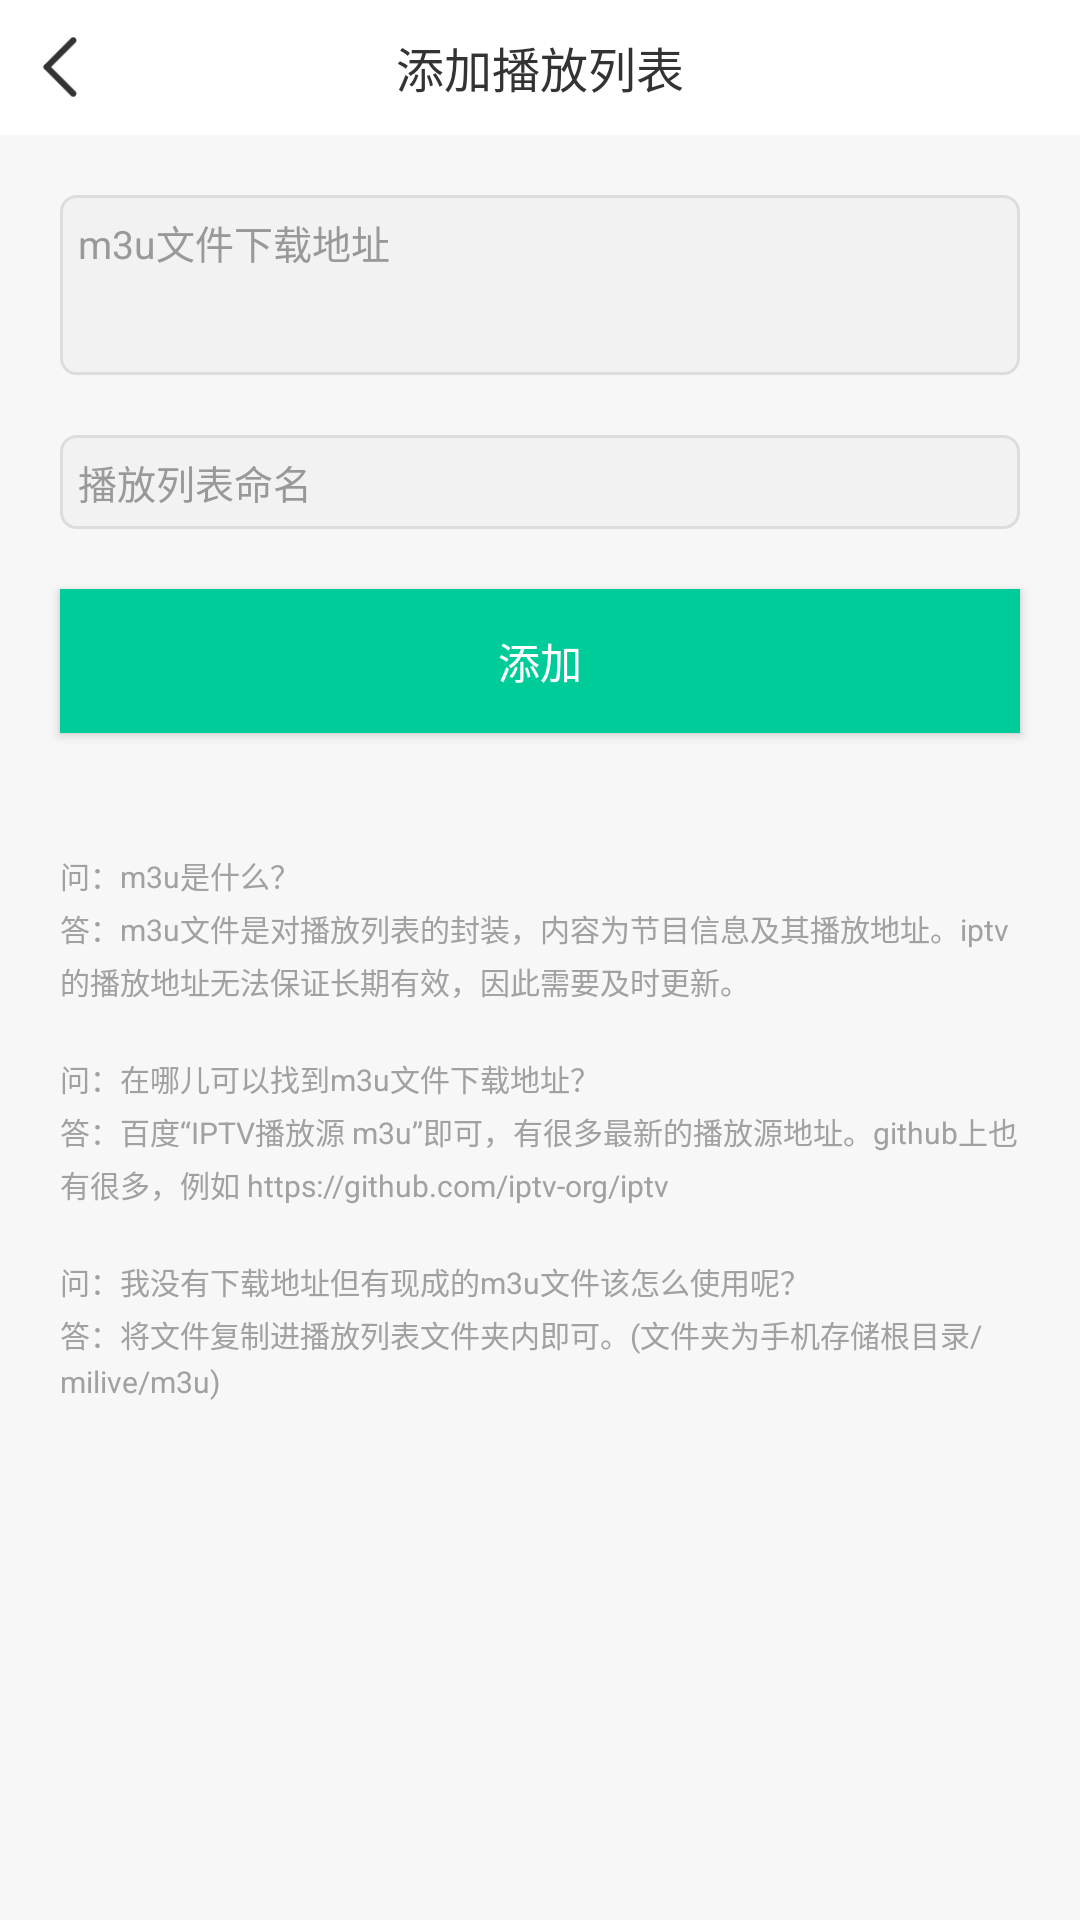

Icon bounding boxes for this 1080*1920 phone screenshot, format {"left": x1, "top": y1, "right": x2, "bottom": y2}:
back: {"left": 43, "top": 37, "right": 77, "bottom": 97}
